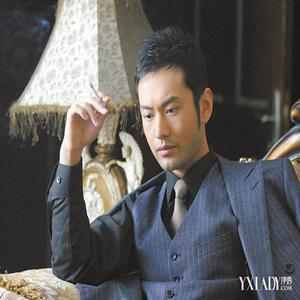cigarette: (89, 83, 111, 111)
